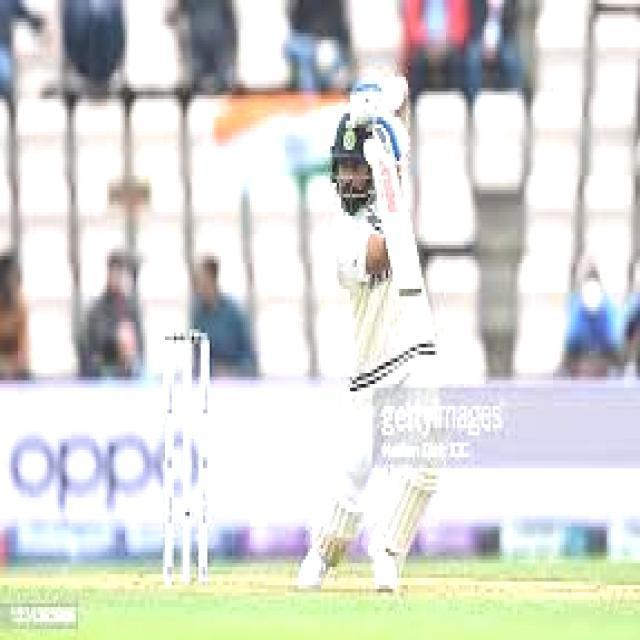bat: (362, 135, 434, 305)
toe: (394, 283, 425, 299)
